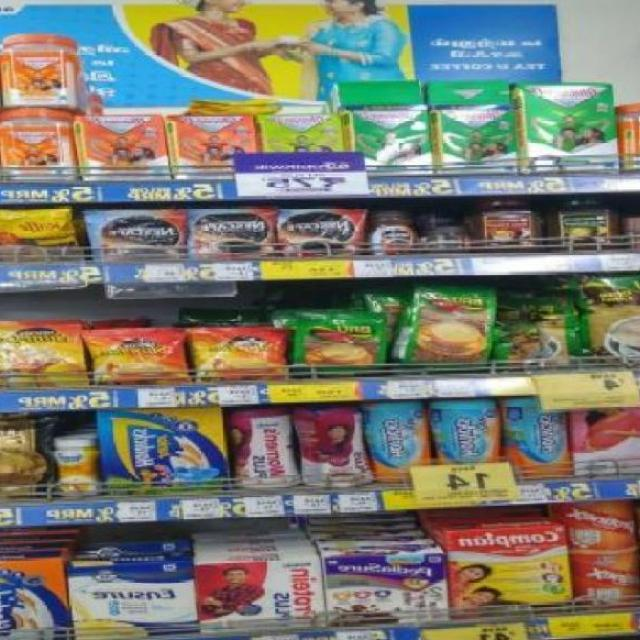Coffee: (0, 322, 82, 389), (93, 331, 185, 387), (195, 329, 289, 383), (90, 211, 186, 263), (188, 208, 277, 260), (278, 209, 367, 258), (367, 212, 419, 255), (418, 227, 472, 251)
